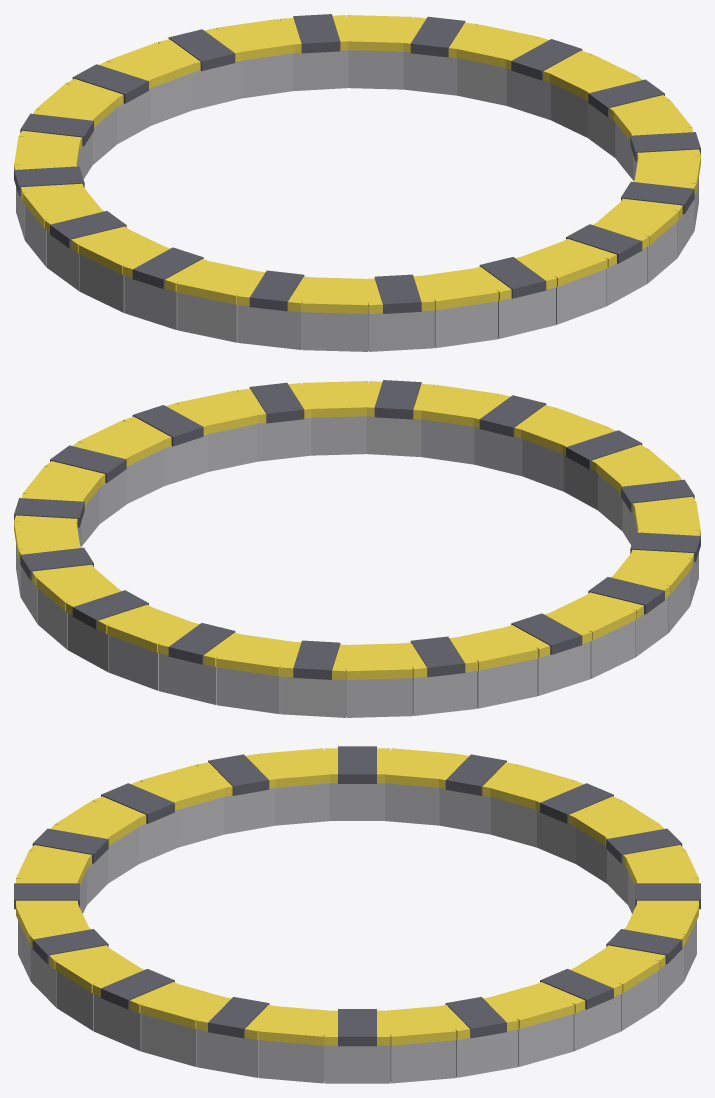
File: pit_rim.glb
3 renders of one model, top to bottom at view 1: azimuth 30°, elevation 25°; view 2: azimuth 150°, elevation 25°; view 3: azimuth 270°, elevation 25°, orthographic.
Parts seen in each view (by area): view 1: pit_rim; view 2: pit_rim; view 3: pit_rim.
Part boxes in pixels (bbox=[...]): pit_rim: bbox=[14, 14, 700, 351]; pit_rim: bbox=[14, 380, 700, 717]; pit_rim: bbox=[14, 746, 700, 1083].
Size of the model in its own units: 3.54 by 0.2755 by 3.54.
